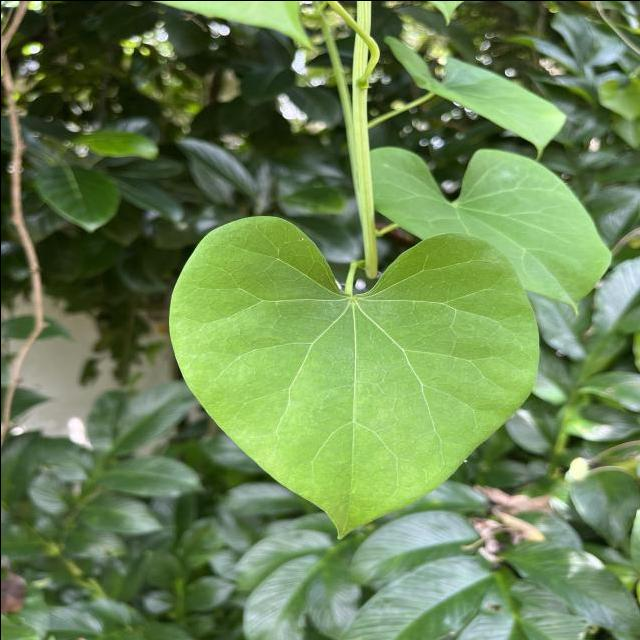Tinospora cordifolia: (159, 202, 546, 551)
